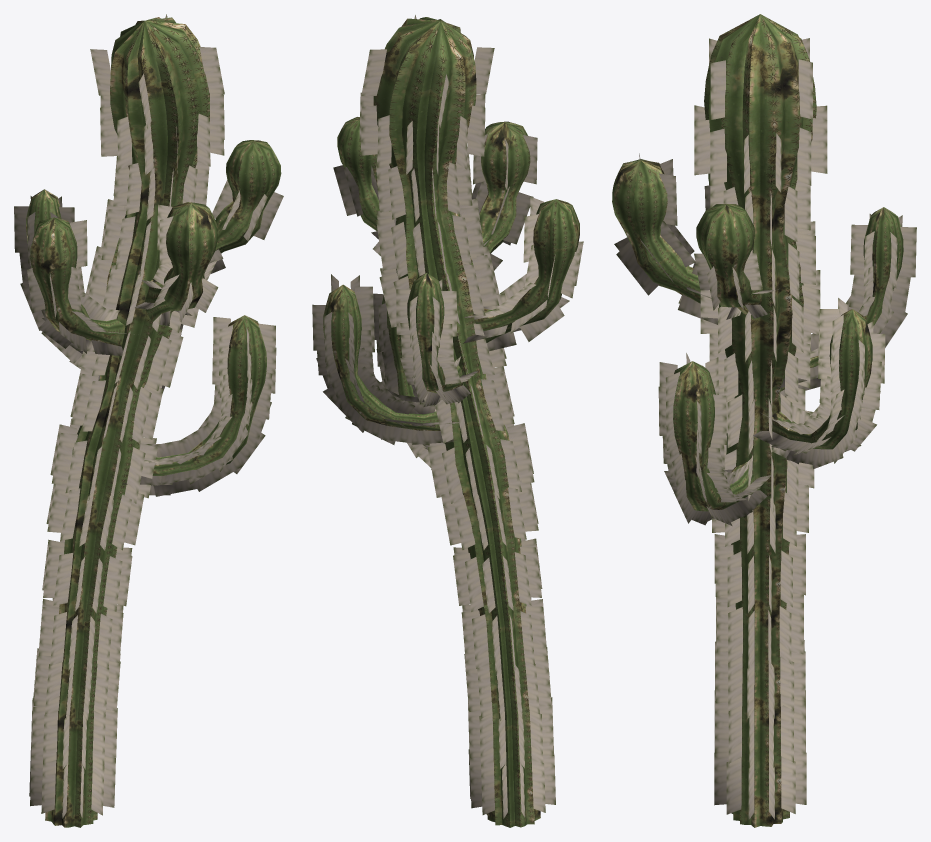
File: Cacto_1.glb
3 views of the same model, side by side, from view 1: azimuth 30°, elevation 25°; view 2: azimuth 150°, elevation 25°; view 3: azimuth 270°, elevation 25° (orthographic). The views are drawn at different scales.
Visible parts, largest first — view 1: Tree_1, Tree_0; view 2: Tree_1, Tree_0; view 3: Tree_1, Tree_0.
Part boxes in pixels (x1,y1,x2,y2): Tree_1: (14, 14, 283, 818); Tree_0: (26, 17, 281, 827); Tree_1: (312, 15, 583, 818); Tree_0: (323, 17, 579, 827); Tree_1: (614, 38, 916, 819); Tree_0: (612, 14, 903, 827).
Bounding box in the file's own units: 0.3921 × 1.18 × 0.3888.
2 materials, 2 textured.
